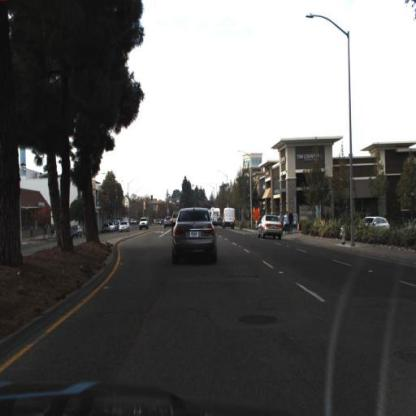car: (172, 208, 218, 266), (358, 214, 394, 240), (257, 213, 283, 242), (358, 218, 392, 236), (223, 203, 240, 232), (172, 209, 186, 238), (137, 214, 151, 233), (118, 219, 132, 236)
pedestrian: (279, 210, 287, 238), (289, 210, 296, 237), (283, 209, 289, 238), (289, 209, 295, 237)
truck: (223, 209, 236, 230)
